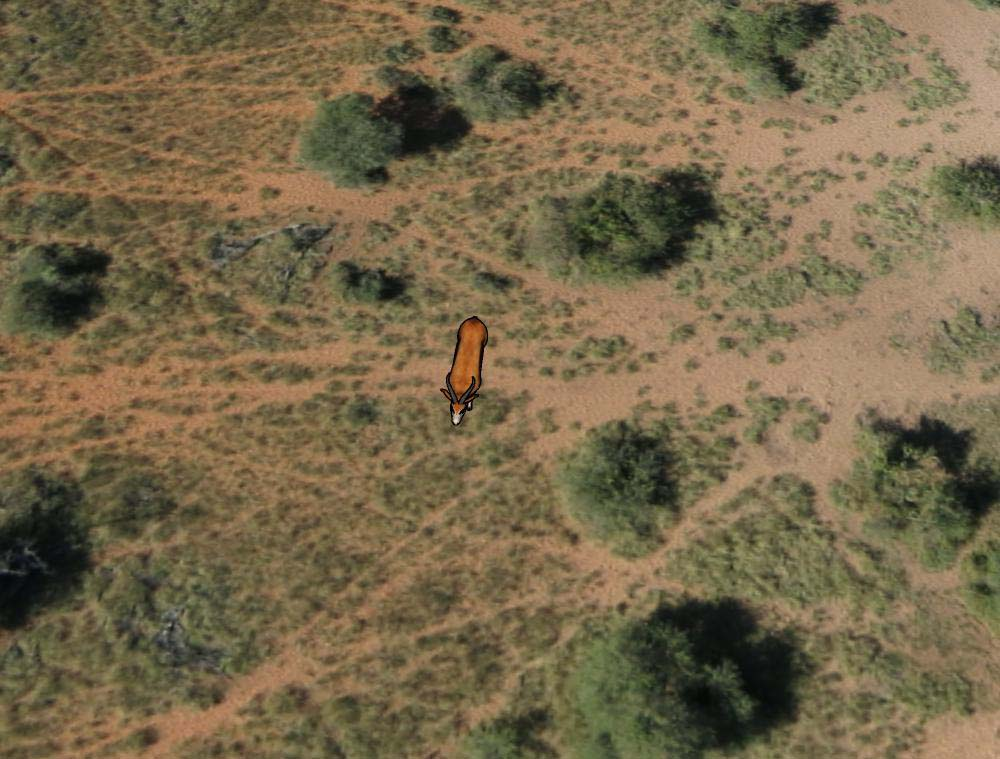springbok: (440, 313, 492, 426)
